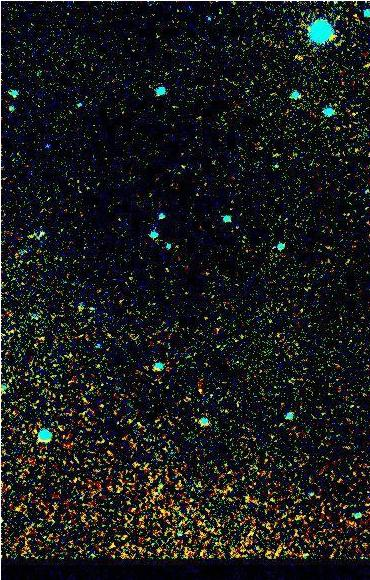star: (320, 103, 350, 133)
